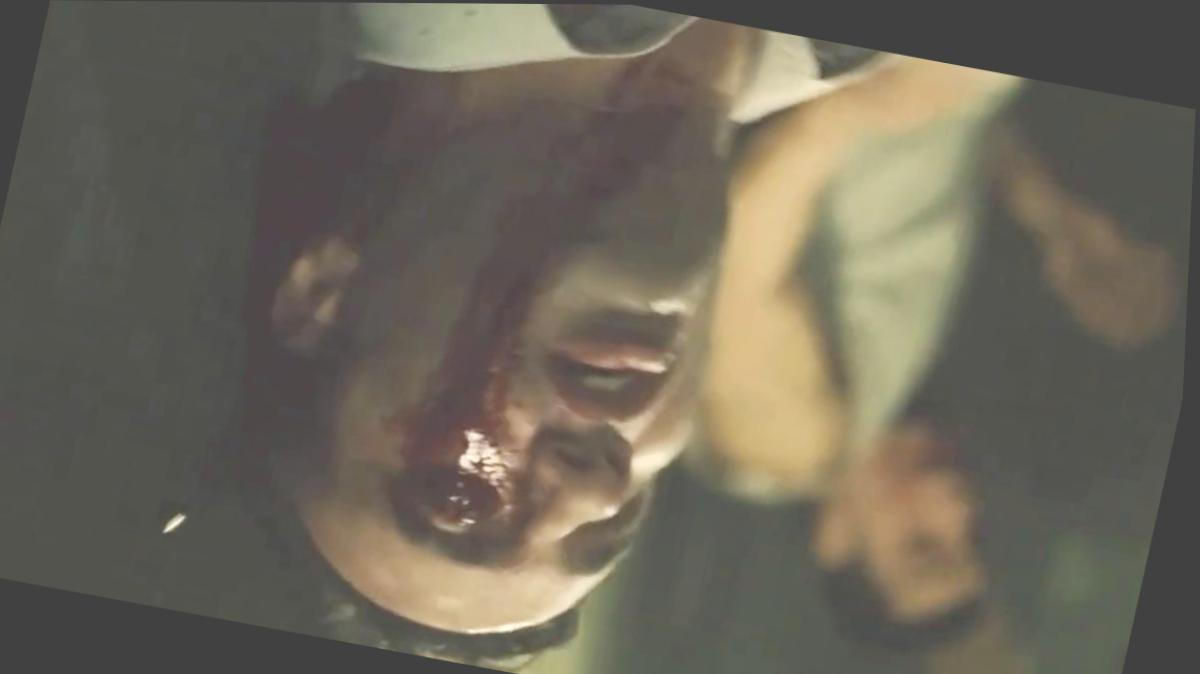Fire: (393, 196, 601, 564)
